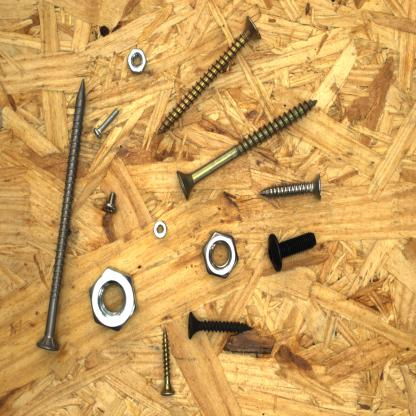screw: (174, 96, 323, 204), (33, 77, 88, 353), (155, 12, 264, 136), (259, 226, 323, 275), (254, 170, 326, 203), (186, 308, 253, 342), (157, 326, 178, 399), (92, 104, 124, 140), (99, 188, 119, 216)
